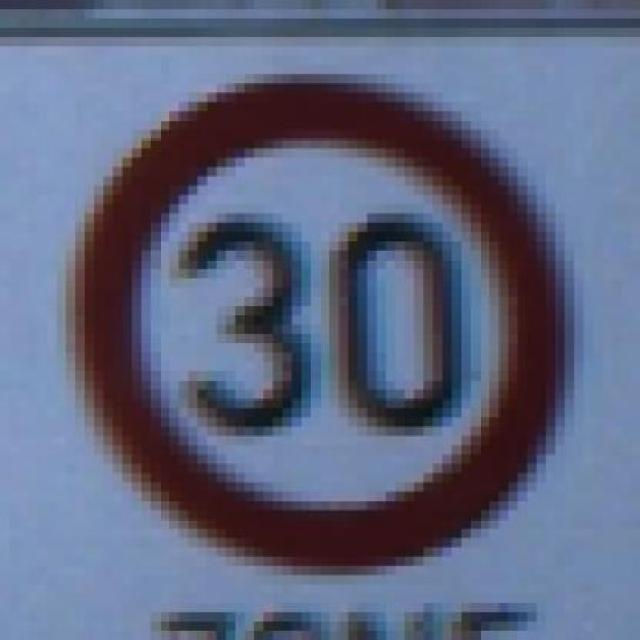Speed Limit 30 KMPh: (56, 65, 584, 584)
